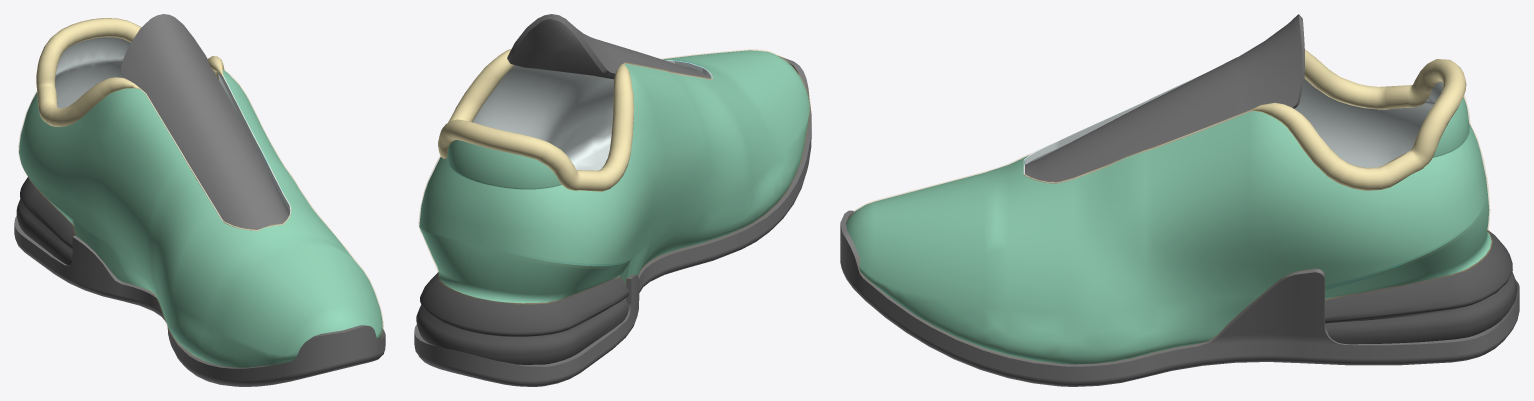
Rendered from Sneakers.gltf.
3 renders of one model, left to right at view 1: azimuth 30°, elevation 25°; view 2: azimuth 150°, elevation 25°; view 3: azimuth 270°, elevation 25°, orthographic. The views are drawn at different scales.
Visible parts, largest first — view 1: EdgeFillet.7, Join.2, ThickSurface.2, PartBody, CloseSurface.6, ThickSurface.7, CloseSurface.4; view 2: EdgeFillet.7, Join.2, CloseSurface.4, ThickSurface.7, PartBody, CloseSurface.6, ThickSurface.2; view 3: EdgeFillet.7, Join.2, PartBody, ThickSurface.2, CloseSurface.4, CloseSurface.6, ThickSurface.7.
Boxes of the visible parts, x1=… form: EdgeFillet.7: x1=18, y1=69, x2=383, y2=367; Join.2: x1=19, y1=70, x2=382, y2=367; ThickSurface.2: x1=121, y1=14, x2=288, y2=229; PartBody: x1=14, y1=215, x2=385, y2=386; CloseSurface.6: x1=36, y1=18, x2=224, y2=126; ThickSurface.7: x1=55, y1=37, x2=291, y2=230; CloseSurface.4: x1=16, y1=177, x2=75, y2=264; EdgeFillet.7: x1=418, y1=49, x2=810, y2=304; Join.2: x1=419, y1=50, x2=809, y2=303; CloseSurface.4: x1=416, y1=272, x2=628, y2=364; ThickSurface.7: x1=473, y1=60, x2=712, y2=170; PartBody: x1=414, y1=55, x2=811, y2=386; CloseSurface.6: x1=438, y1=49, x2=633, y2=191; ThickSurface.2: x1=507, y1=14, x2=709, y2=79; EdgeFillet.7: x1=846, y1=96, x2=1492, y2=364; Join.2: x1=846, y1=97, x2=1491, y2=364; PartBody: x1=840, y1=210, x2=1519, y2=386; ThickSurface.2: x1=1025, y1=14, x2=1304, y2=182; CloseSurface.4: x1=1325, y1=230, x2=1517, y2=344; CloseSurface.6: x1=1250, y1=49, x2=1466, y2=190; ThickSurface.7: x1=1023, y1=73, x2=1442, y2=183.
Size of the model in its own units: 23.18 by 30.05 by 58.83.
